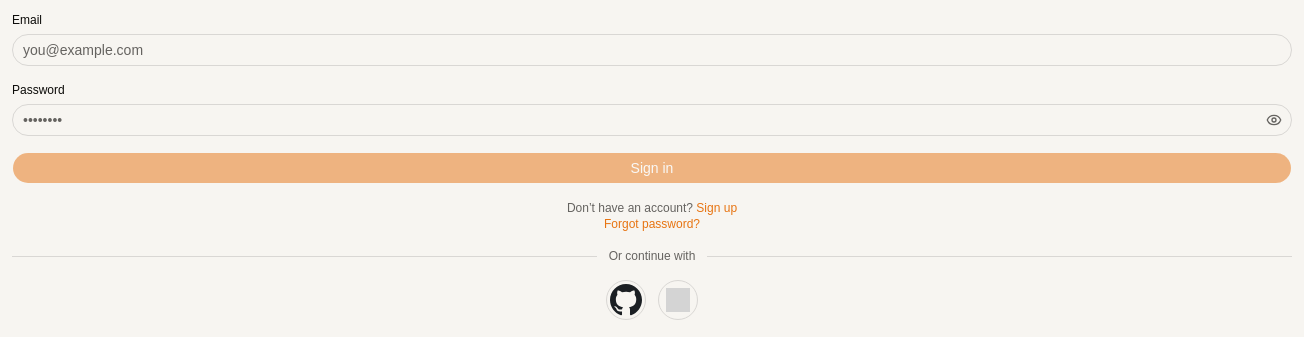
LoginForm › submit button enables once valid credentials are entered
Type "test@example.com" into the field with placeholder "you@example.com" at (652, 50), box left=12, top=34, right=1292, bottom=66
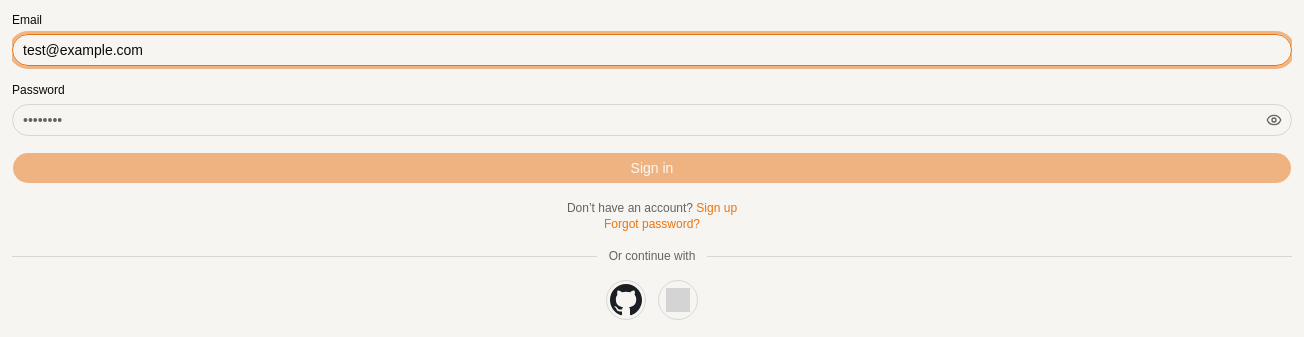
Type "password123" into the password field with placeholder "••••••••" at (652, 120), box left=12, top=104, right=1292, bottom=136
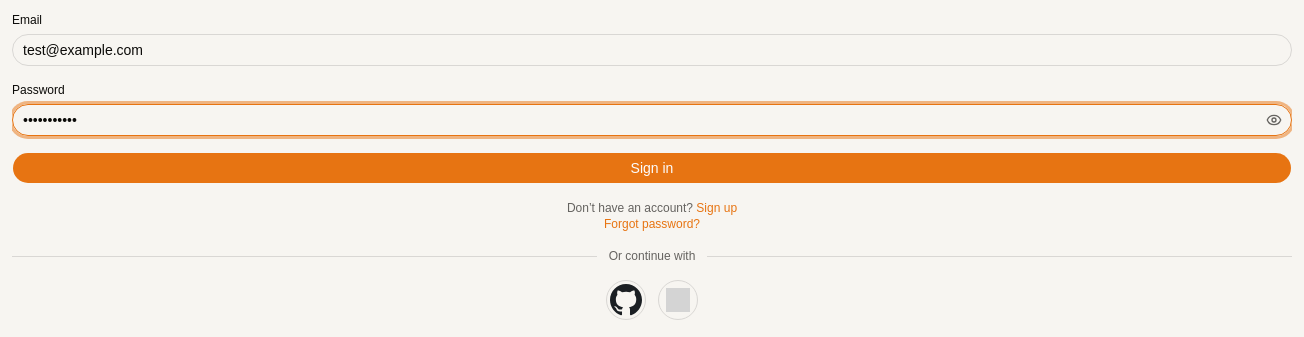
Expected: the button "Sign in" is enabled, left=12, top=152, right=1292, bottom=184
